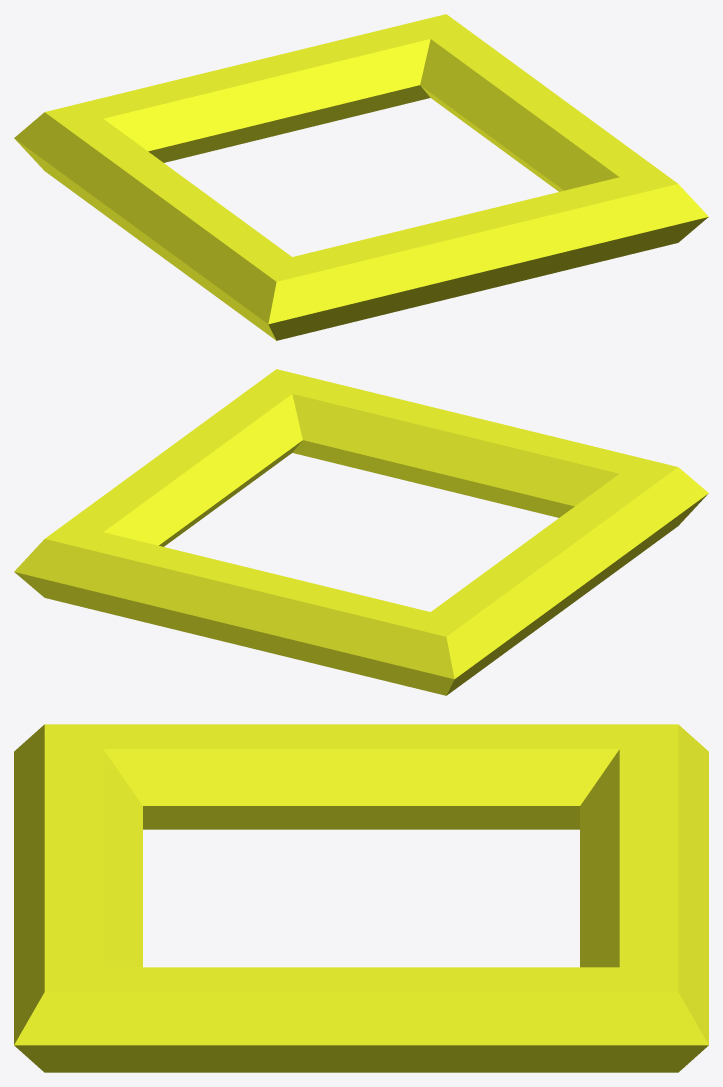
The model's file is item_nimbus.fbx.
The picture shows the model from 3 angles, top to bottom: view 1: azimuth 30°, elevation 25°; view 2: azimuth 150°, elevation 25°; view 3: azimuth 270°, elevation 25°; orthographic projection. The views are drawn at different scales.
Visible parts, largest first — view 1: item_nimbus; view 2: item_nimbus; view 3: item_nimbus.
Boxes of the visible parts, <box> form: item_nimbus: <box>14,14,708,340</box>; item_nimbus: <box>14,369,708,695</box>; item_nimbus: <box>14,724,708,1072</box>.
Bounding box in the file's own units: 520 × 66.48 × 520.
